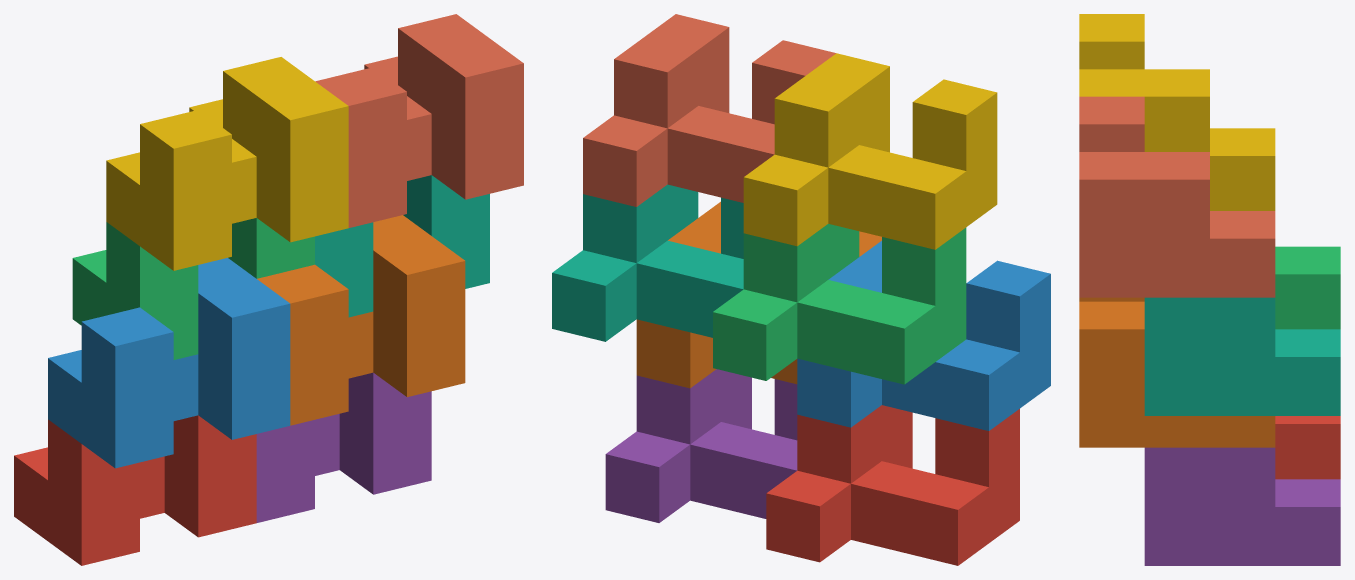
The model's file is tiling.obj.
The picture shows the model from 3 angles, left to right: view 1: azimuth 30°, elevation 25°; view 2: azimuth 150°, elevation 25°; view 3: azimuth 270°, elevation 25°; orthographic projection. The views are drawn at different scales.
Visible parts, largest first — view 1: copy_1_domain_4, copy_1_domain_2, copy_1_domain_8, copy_1_domain_6, copy_1_domain_1, copy_1_domain_5, copy_1_domain_3, copy_1_domain_7; view 2: copy_1_domain_4, copy_1_domain_1, copy_1_domain_3, copy_1_domain_8, copy_1_domain_2, copy_1_domain_5, copy_1_domain_7, copy_1_domain_6; view 3: copy_1_domain_8, copy_1_domain_5, copy_1_domain_7, copy_1_domain_4, copy_1_domain_6, copy_1_domain_3, copy_1_domain_1.
Part boxes in pixels (x1,y1,x2,y2): copy_1_domain_4: (106,57,348,270); copy_1_domain_2: (48,257,290,468); copy_1_domain_8: (315,14,523,227); copy_1_domain_6: (257,215,465,425); copy_1_domain_1: (14,415,256,565); copy_1_domain_5: (256,372,431,522); copy_1_domain_3: (72,218,314,359); copy_1_domain_7: (315,175,489,317); copy_1_domain_4: (743,53,997,249); copy_1_domain_1: (766,405,1019,565); copy_1_domain_3: (713,224,966,384); copy_1_domain_8: (583,14,836,206); copy_1_domain_2: (797,241,1050,430); copy_1_domain_5: (605,369,797,522); copy_1_domain_7: (552,184,743,341); copy_1_domain_6: (636,201,881,388); copy_1_domain_8: (1079,96,1275,297); copy_1_domain_5: (1144,447,1340,565); copy_1_domain_7: (1144,297,1340,415); copy_1_domain_4: (1079,14,1275,210); copy_1_domain_6: (1079,297,1275,447); copy_1_domain_3: (1275,246,1340,329); copy_1_domain_1: (1275,416,1340,479).
Bounding box in the file's own units: 7 × 7 × 4.
